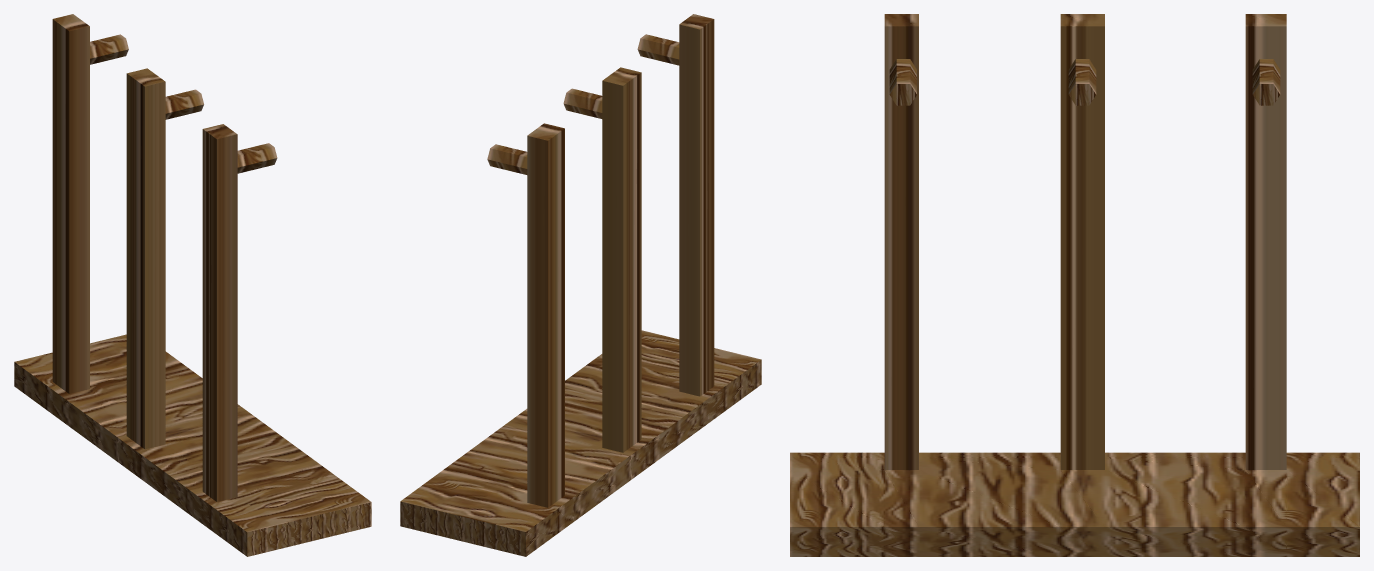
Rendered from Sword Stand.fbx.
The picture shows the model from 3 angles, left to right: view 1: azimuth 30°, elevation 25°; view 2: azimuth 150°, elevation 25°; view 3: azimuth 270°, elevation 25°; orthographic projection. The views are drawn at different scales.
Visible parts, largest first — view 1: Sword Stand; view 2: Sword Stand; view 3: Sword Stand.
Part boxes in pixels (left/top/right/bottom): Sword Stand: left=14, top=14, right=371, bottom=556; Sword Stand: left=400, top=14, right=761, bottom=556; Sword Stand: left=790, top=14, right=1359, bottom=556.
Size of the model in its own units: 200 by 596 by 650.
